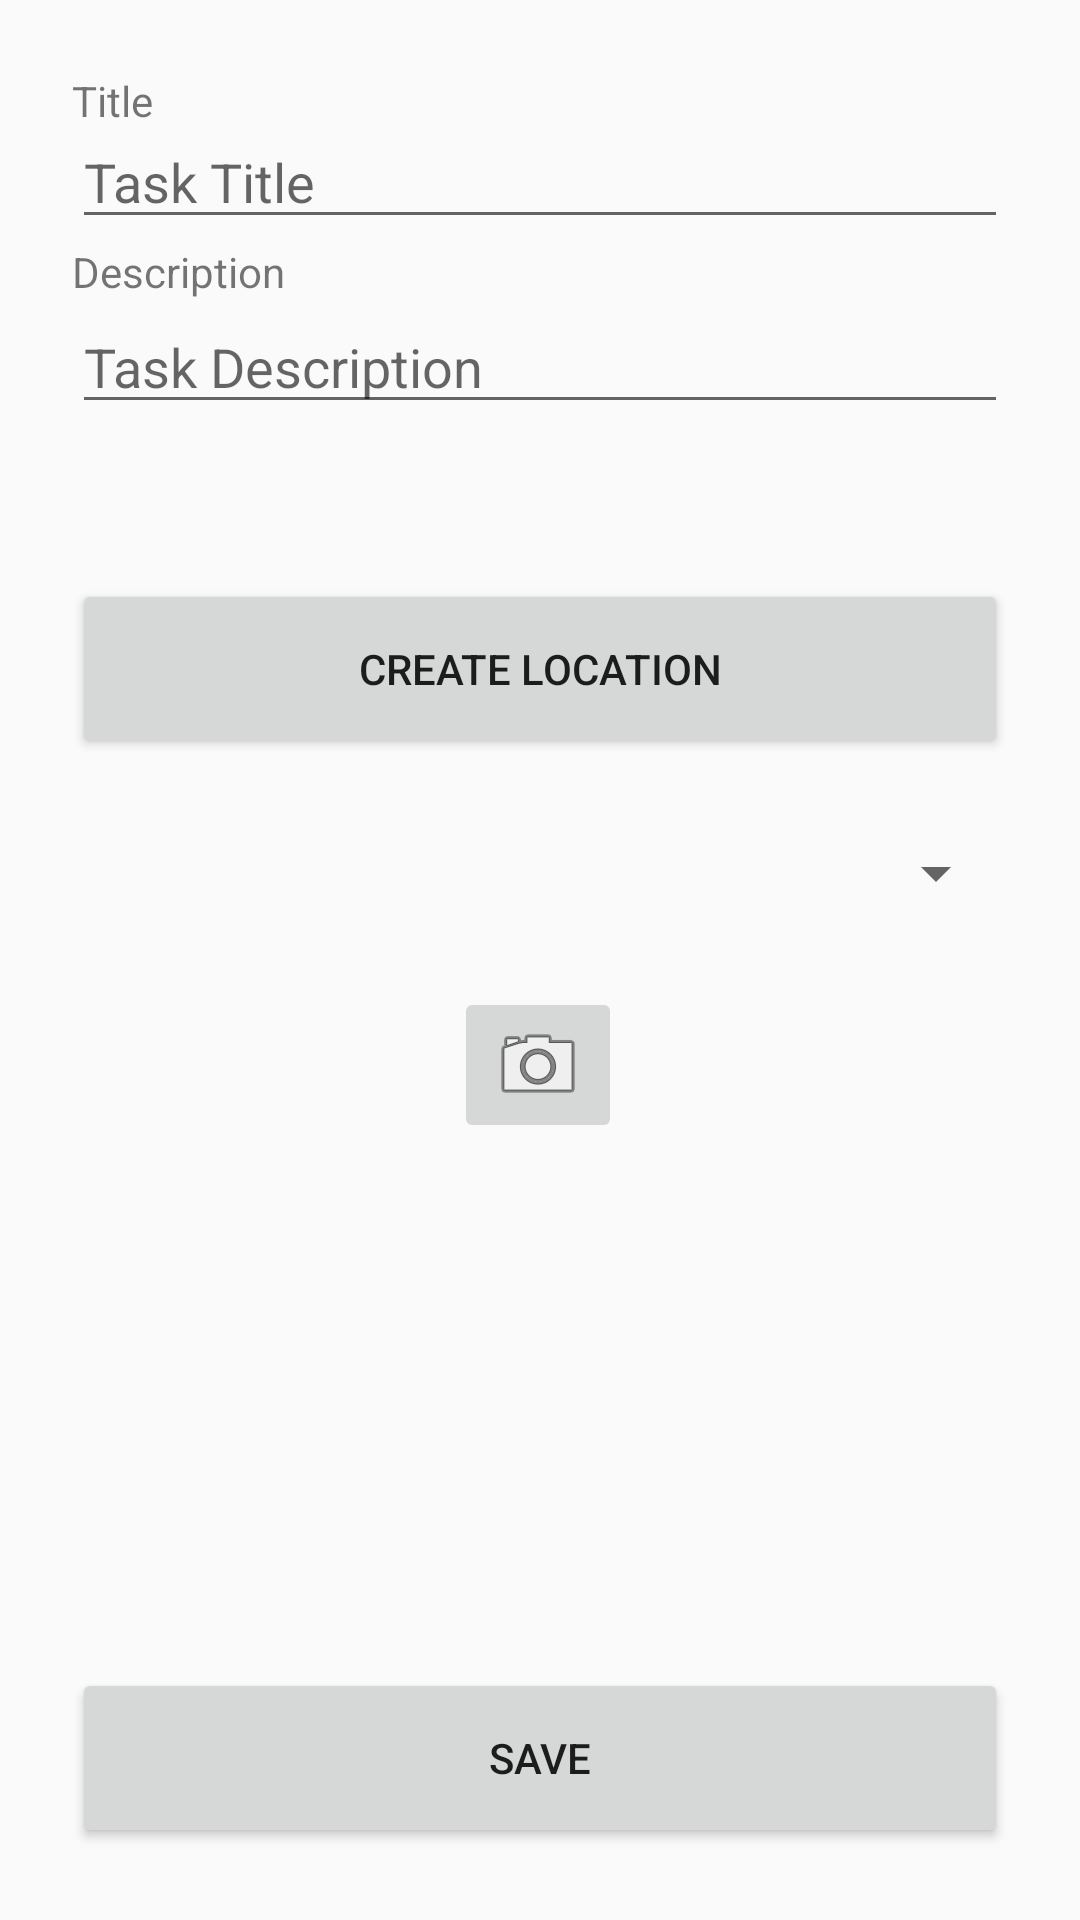

Icons on this 1080 × 1920 Android screen, each with its box as (x1, y1, x2, y2):
camera: (466, 1005, 610, 1125)
